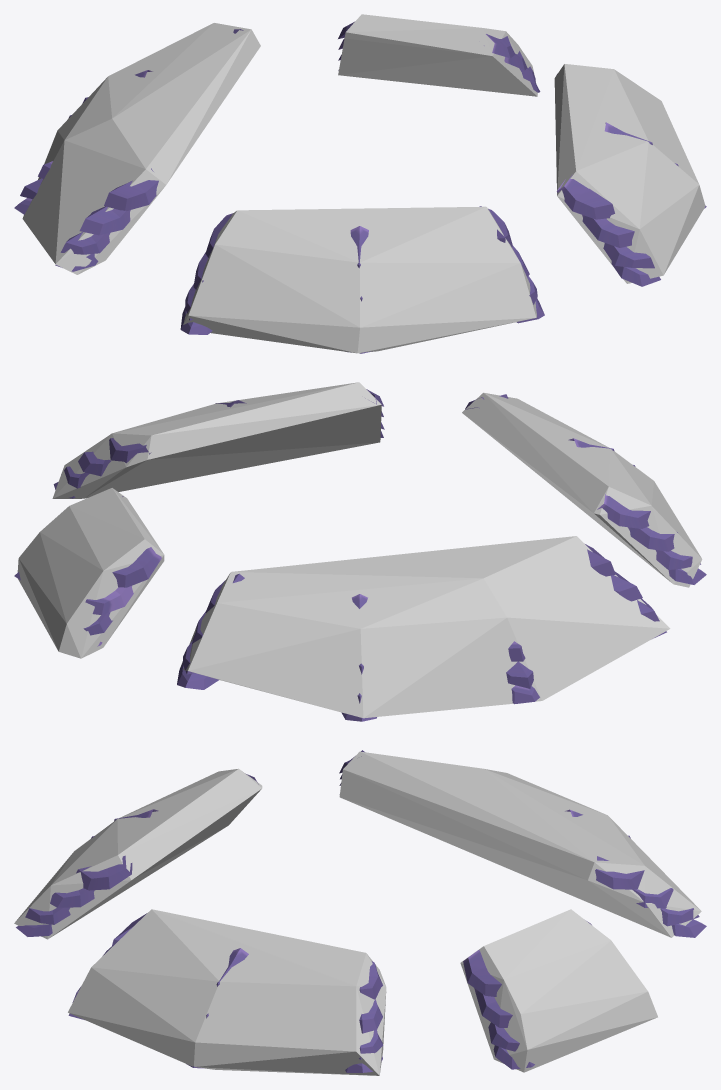
Rendered from SM_Bld_Gazebo_02_Tile_Peaks_01.fbx.
3 views of the same model, one above another, from view 1: azimuth 30°, elevation 25°; view 2: azimuth 150°, elevation 25°; view 3: azimuth 270°, elevation 25° (orthographic). The views are drawn at different scales.
Parts seen in each view (by area): view 1: SM_Bld_Gazebo_02_Tile_Peaks_01_ConvexHulls, SM_Bld_Gazebo_02_Tile_Peaks_01; view 2: SM_Bld_Gazebo_02_Tile_Peaks_01_ConvexHulls, SM_Bld_Gazebo_02_Tile_Peaks_01; view 3: SM_Bld_Gazebo_02_Tile_Peaks_01_ConvexHulls, SM_Bld_Gazebo_02_Tile_Peaks_01.
Boxes of the visible parts, x1,y1,x2,y2 form: SM_Bld_Gazebo_02_Tile_Peaks_01_ConvexHulls: (22, 14, 705, 353); SM_Bld_Gazebo_02_Tile_Peaks_01: (14, 21, 706, 353); SM_Bld_Gazebo_02_Tile_Peaks_01_ConvexHulls: (17, 382, 702, 718); SM_Bld_Gazebo_02_Tile_Peaks_01: (14, 389, 706, 721); SM_Bld_Gazebo_02_Tile_Peaks_01_ConvexHulls: (14, 751, 701, 1075); SM_Bld_Gazebo_02_Tile_Peaks_01: (16, 750, 706, 1072).
Size of the model in its own units: 596 by 596 by 89.46.
2 materials, 1 textured.
